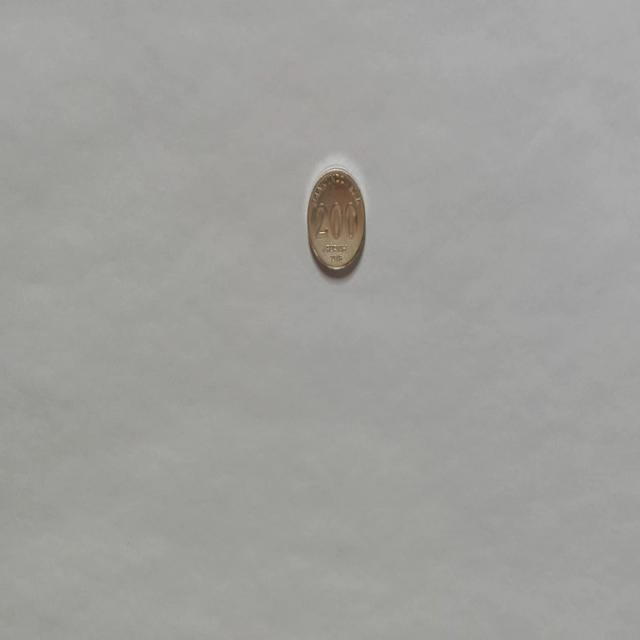dua ratus rupiah: (306, 165, 366, 274)
